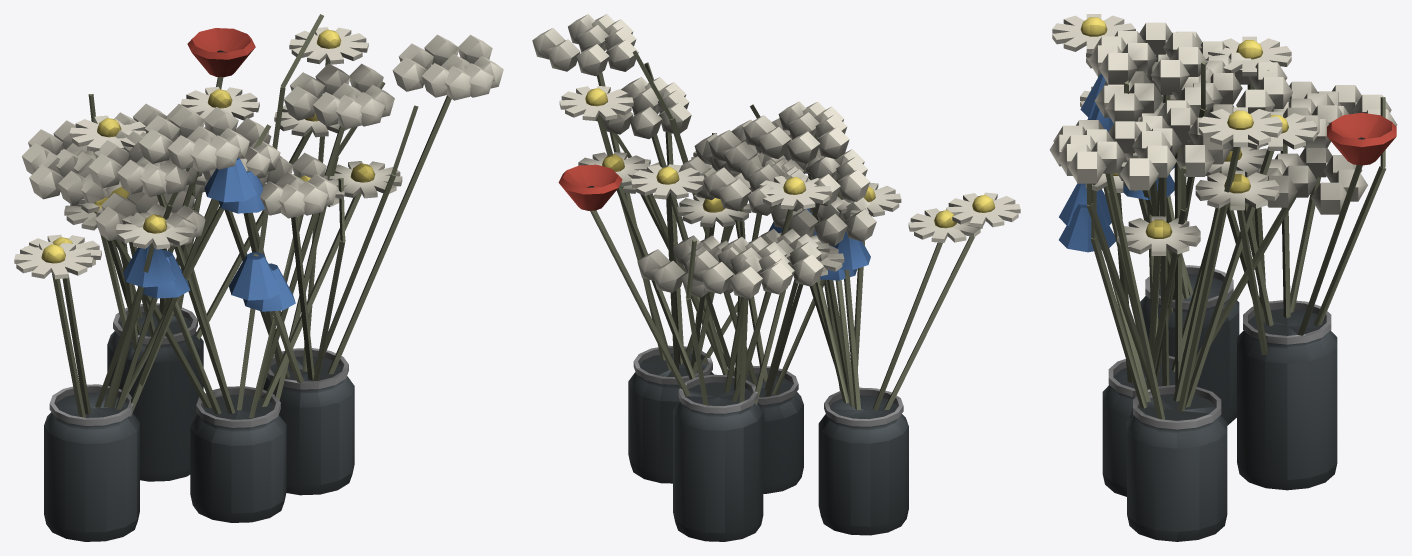
The model's file is flower_jars.glb.
The picture shows the model from 3 angles, left to right: view 1: azimuth 30°, elevation 25°; view 2: azimuth 150°, elevation 25°; view 3: azimuth 270°, elevation 25°; orthographic projection. The views are drawn at different scales.
Visible parts, largest first — view 1: static; view 2: static; view 3: static.
Boxes of the visible parts, <box> form: static: <box>14,14,503,541</box>; static: <box>532,14,1020,541</box>; static: <box>1049,14,1397,541</box>.
Size of the model in its own units: 0.4922 by 0.4284 by 0.2846.
